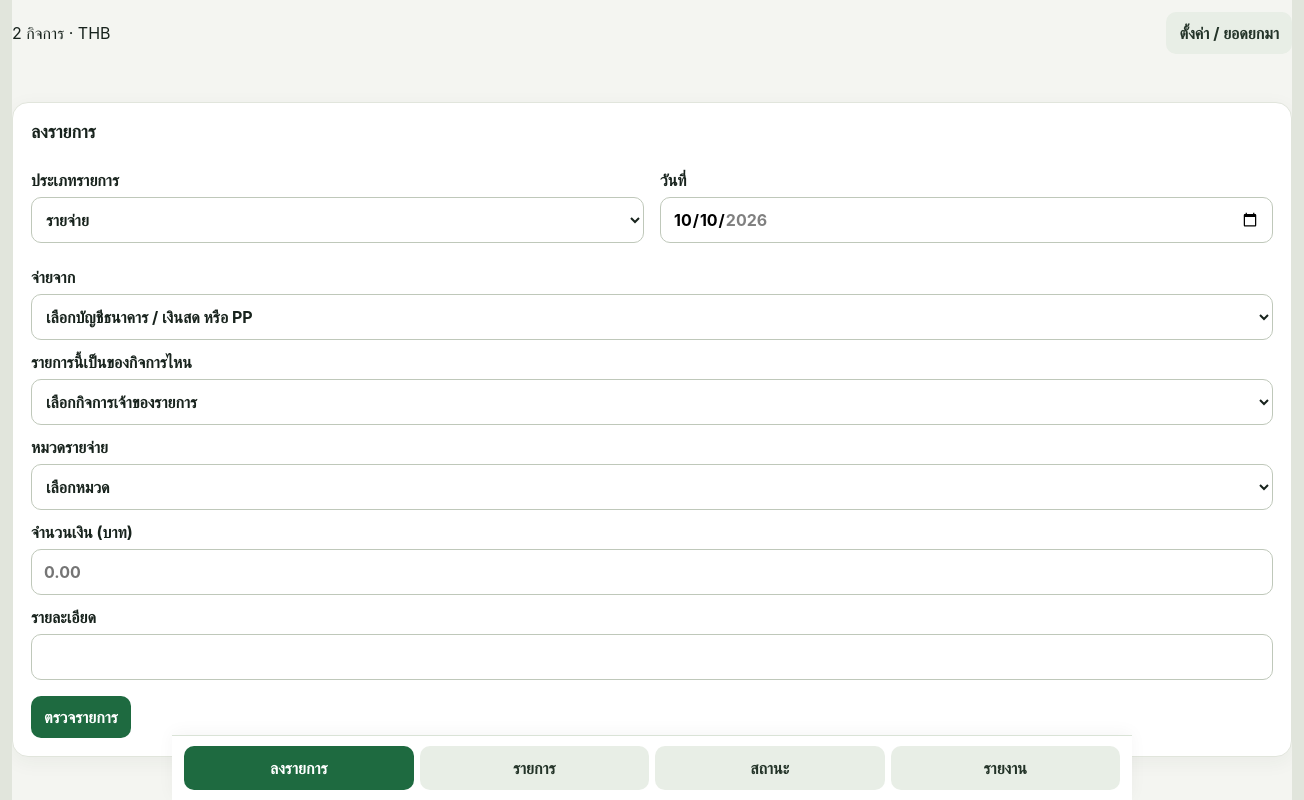
Test: Stage 4 interaction regression › posts payer and beneficiary separately and clears the completed form
This screenshot has width=1304, height=800.
Expected: the heading "ลงรายการ" is shown, [31, 121, 96, 142]
Select "Demo 1 · Demo bank" in the dropdown labelled "จ่ายจาก". click: {"x": 652, "y": 317}
box: [31, 294, 1273, 340]
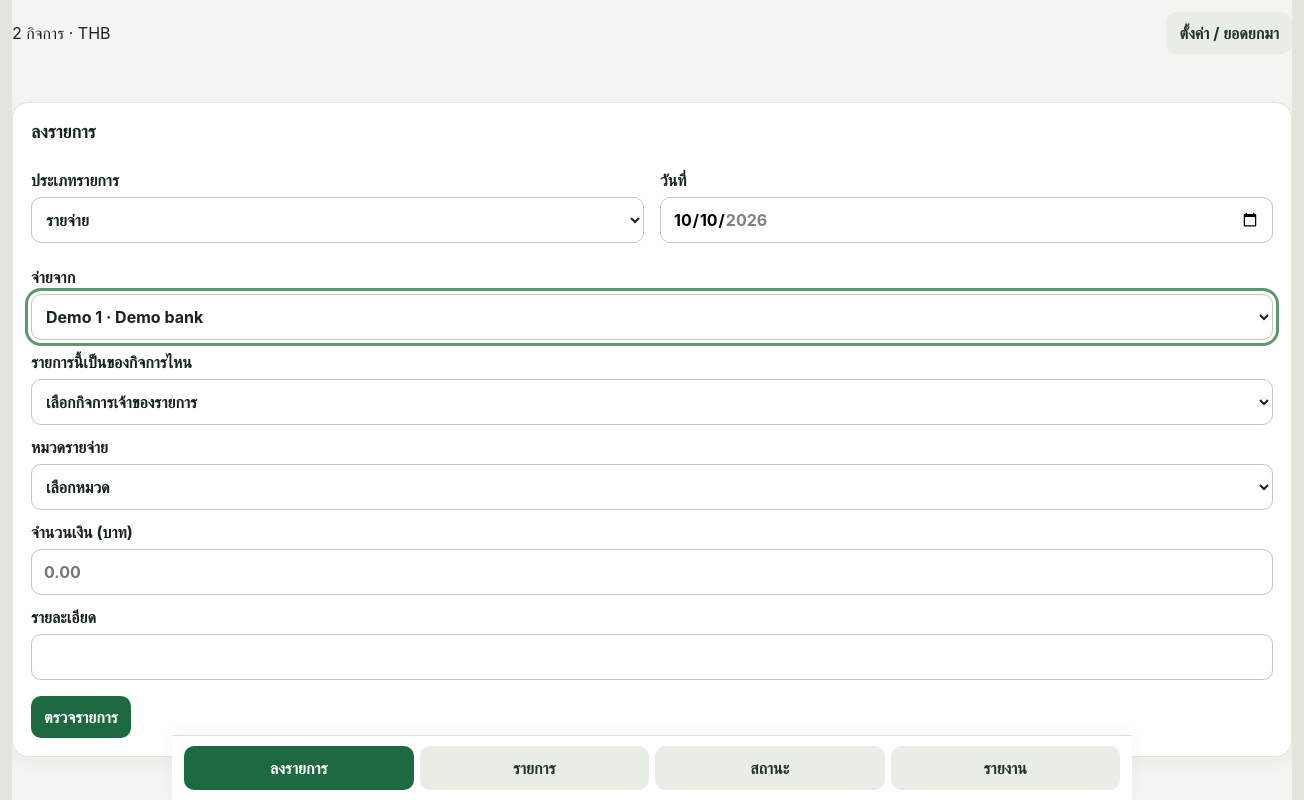
Select "Demo 2" in the dropdown labelled "รายการนี้เป็นของกิจการไหน". click: {"x": 652, "y": 402}
box: [31, 379, 1273, 425]
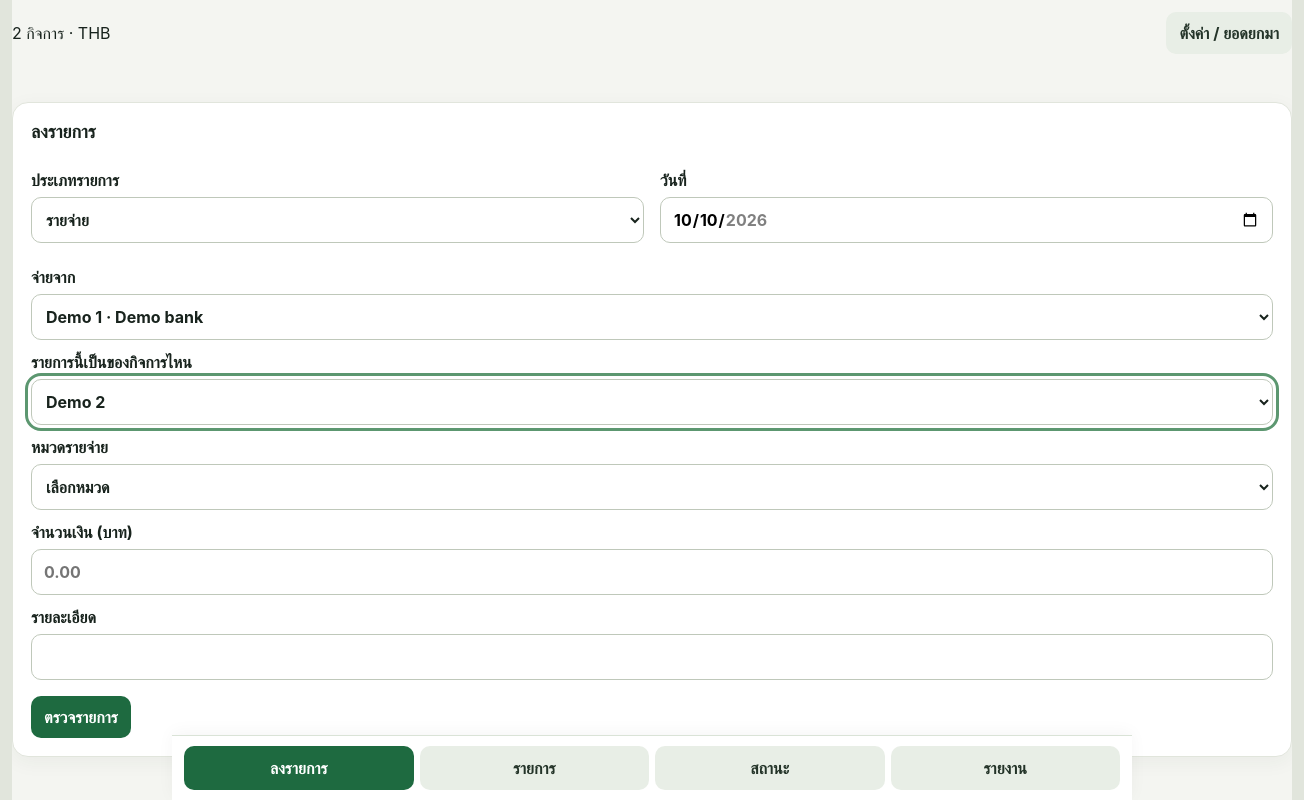
Select "=Unsafe category" in the dropdown labelled "หมวดรายจ่าย". click: {"x": 652, "y": 487}
box: [31, 464, 1273, 510]
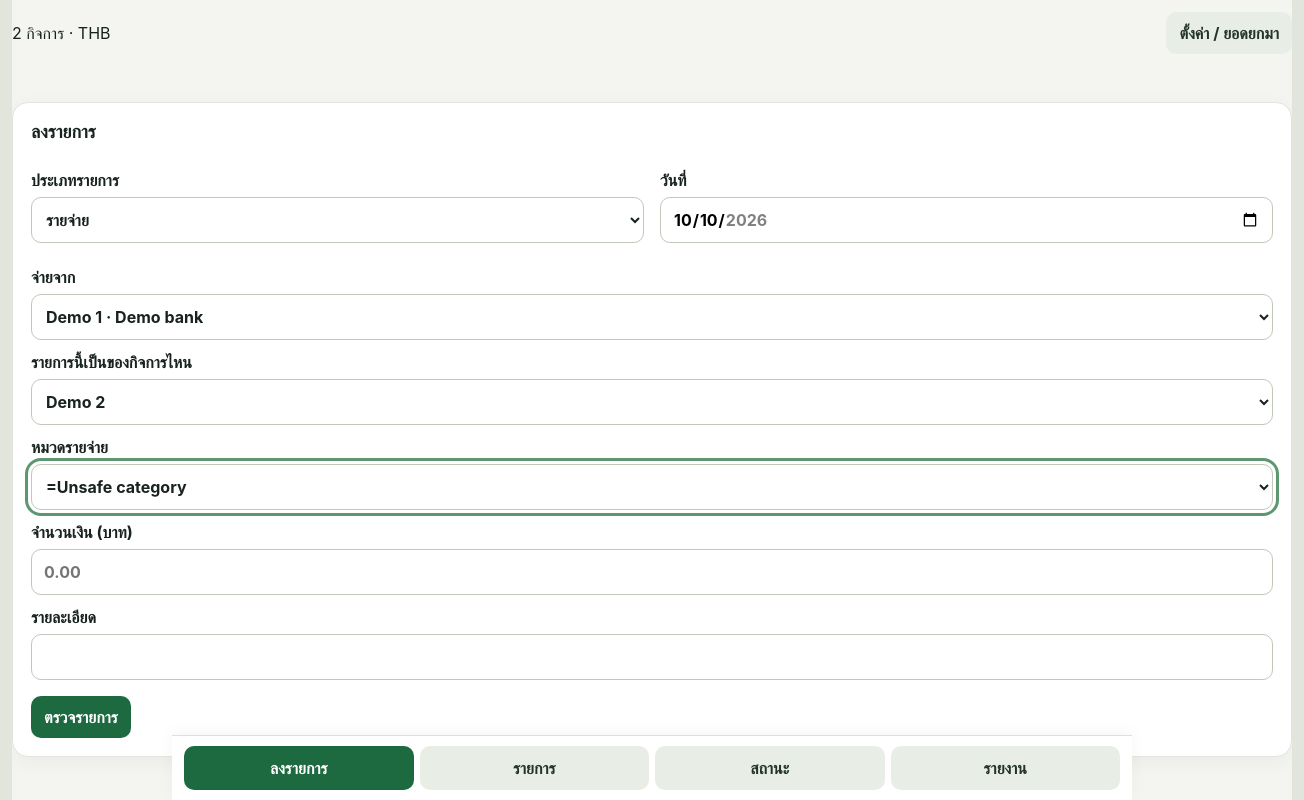
Type "123.45" into the field labelled "จำนวนเงิน (บาท)". click: {"x": 652, "y": 572}
box: [31, 549, 1273, 595]
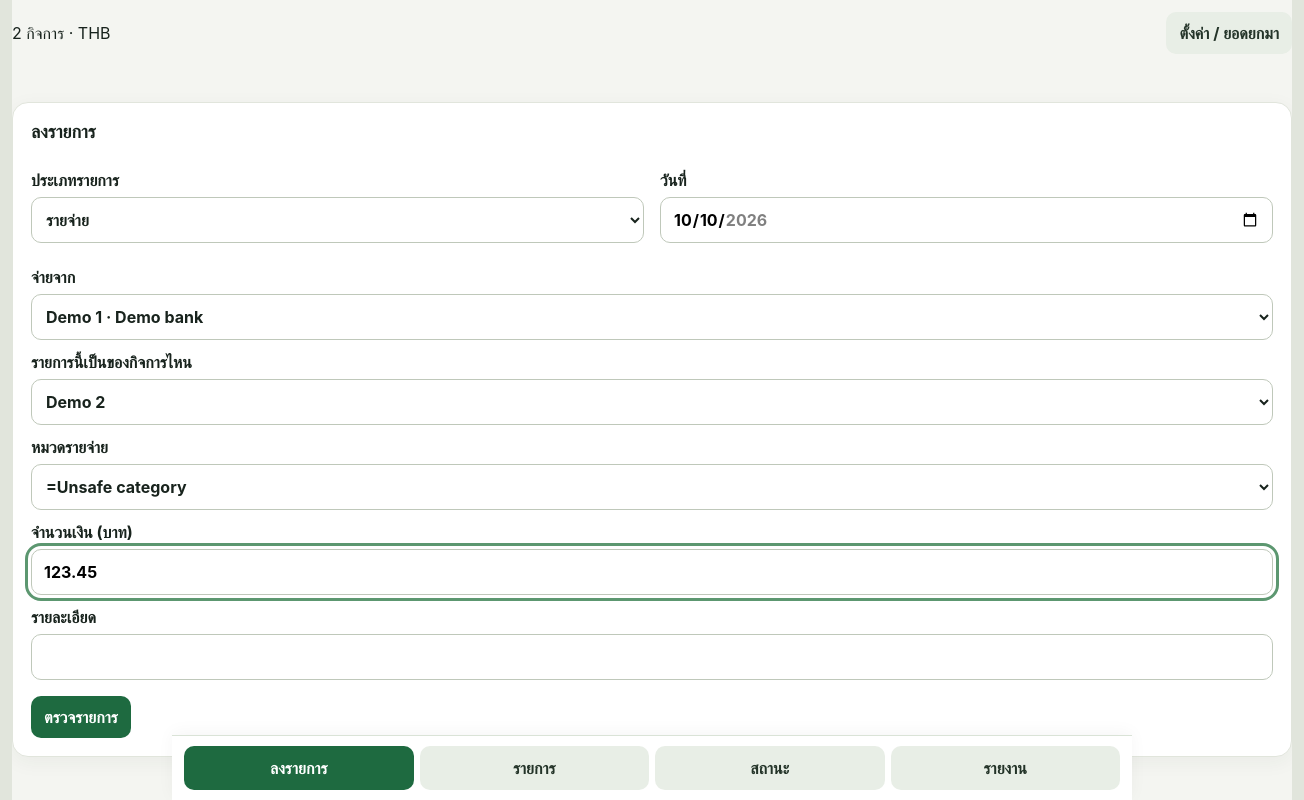
Click the button "ตรวจรายการ". click: {"x": 81, "y": 717}
box: [31, 696, 131, 738]
(page scrolled)
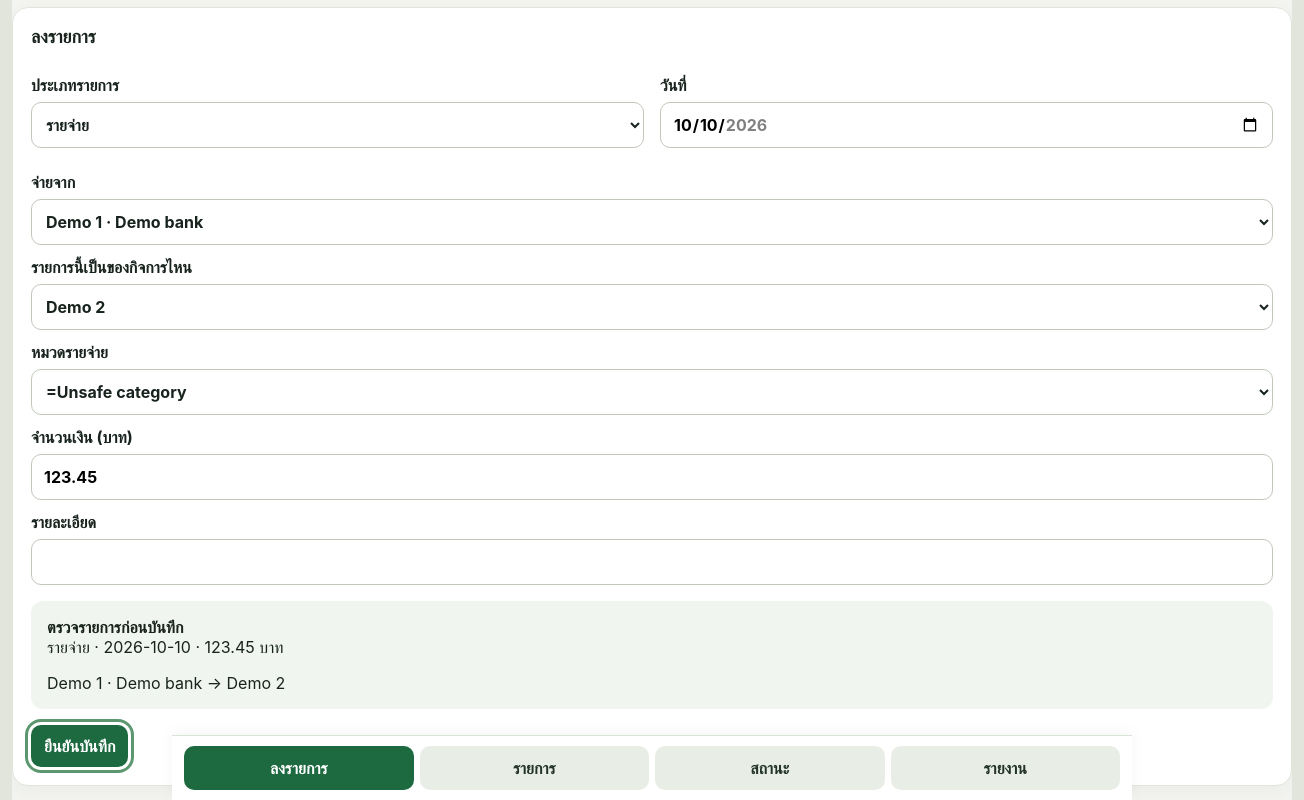
Click the button "ยืนยันบันทึก". click: {"x": 80, "y": 746}
box: [31, 725, 128, 767]
(page scrolled)
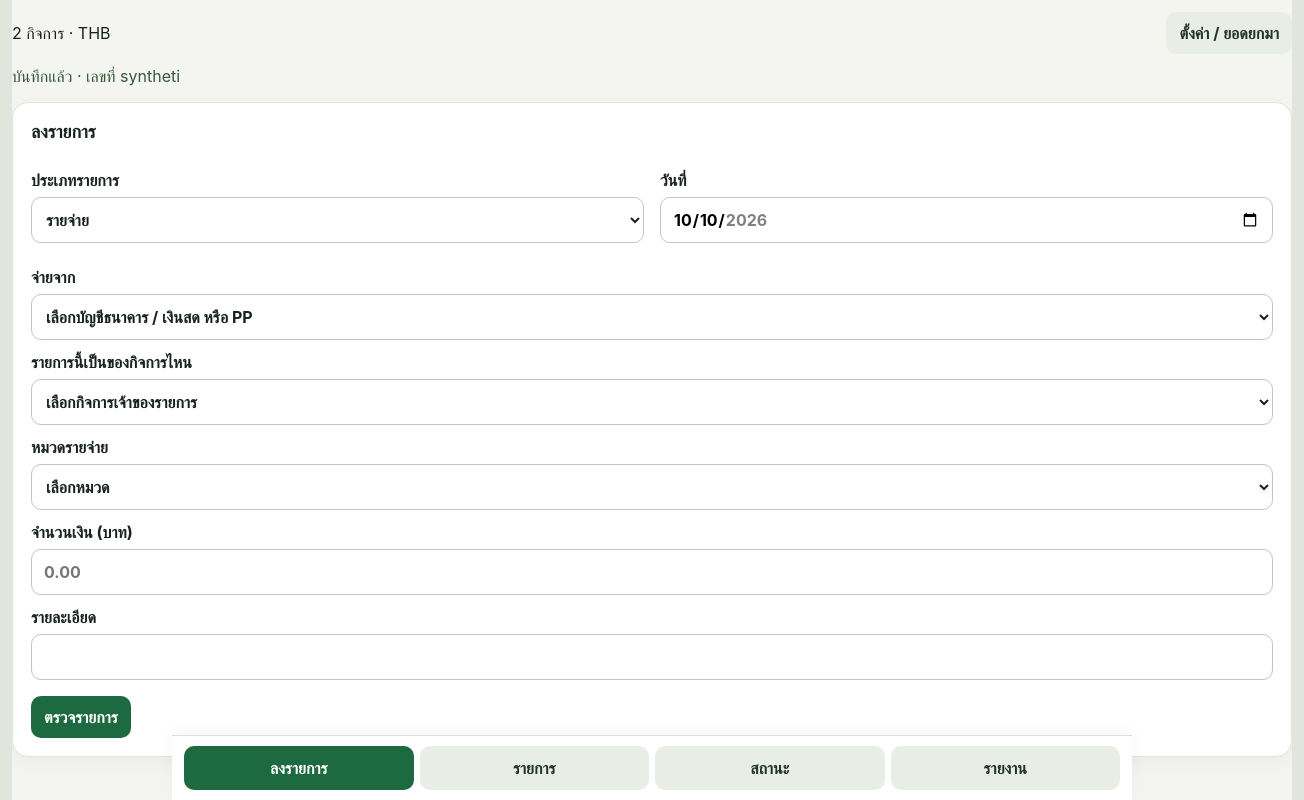
Expected: the text "บันทึกแล้ว · เลขที่ syntheti" is shown, [12, 66, 180, 86]
Expected: the field labelled "จำนวนเงิน (บาท)" is empty, [31, 549, 1273, 595]
